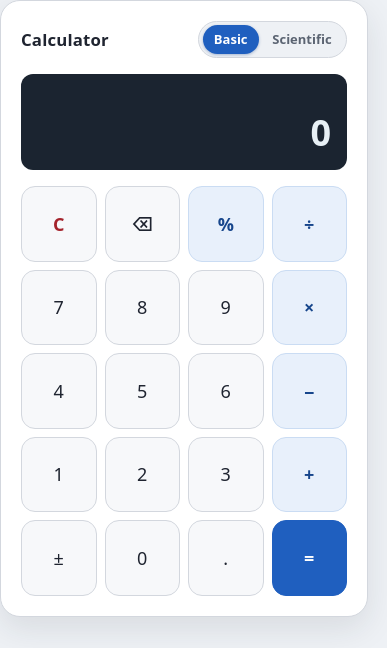
Test: Calculator entry › adds a decimal point once and ignores a second one
Click the button "1": (59, 475) left=21, top=437, right=96, bottom=512
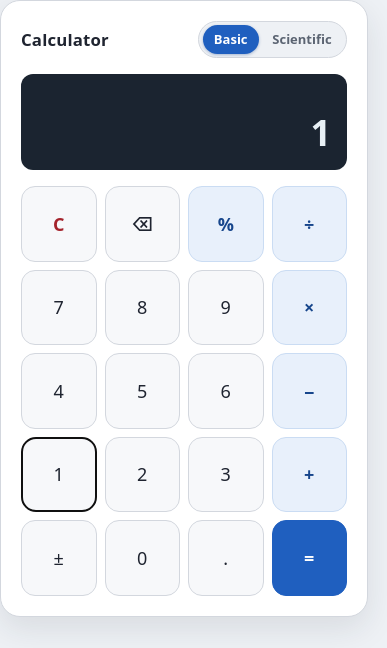
Click the button named "Decimal point": (226, 558) left=188, top=520, right=264, bottom=596
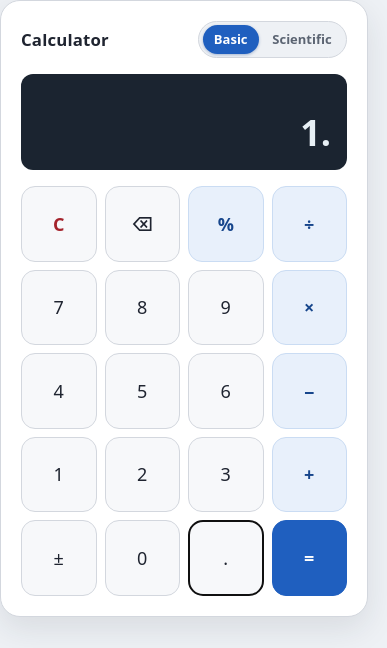
Click the button "5": (142, 391) left=104, top=354, right=180, bottom=429
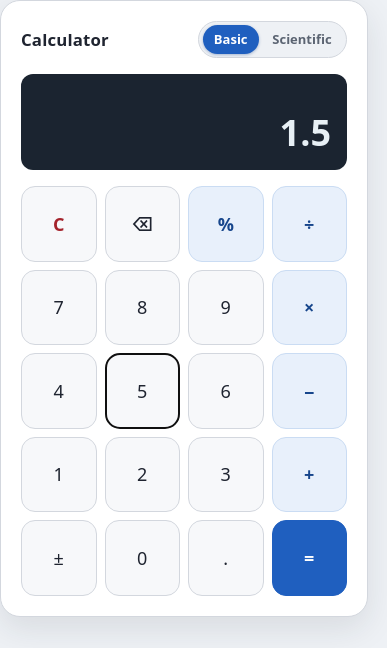
Click the button named "Decimal point": (226, 558) left=188, top=520, right=264, bottom=596
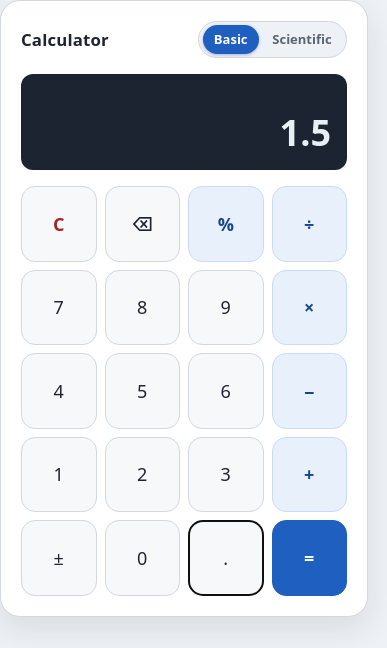
Click the button "2": (142, 475) left=104, top=437, right=180, bottom=512
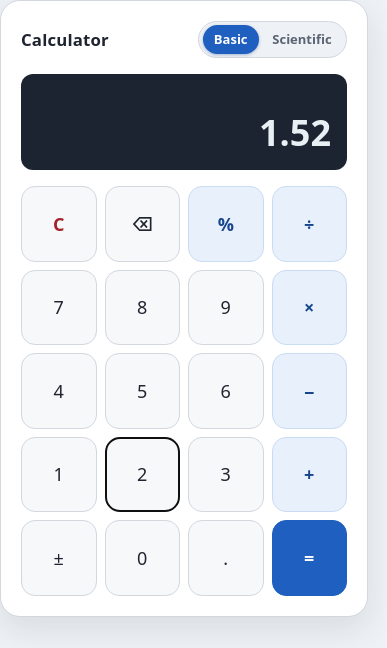
Check: the text "1.52" is shown, box left=259, top=112, right=331, bottom=154
